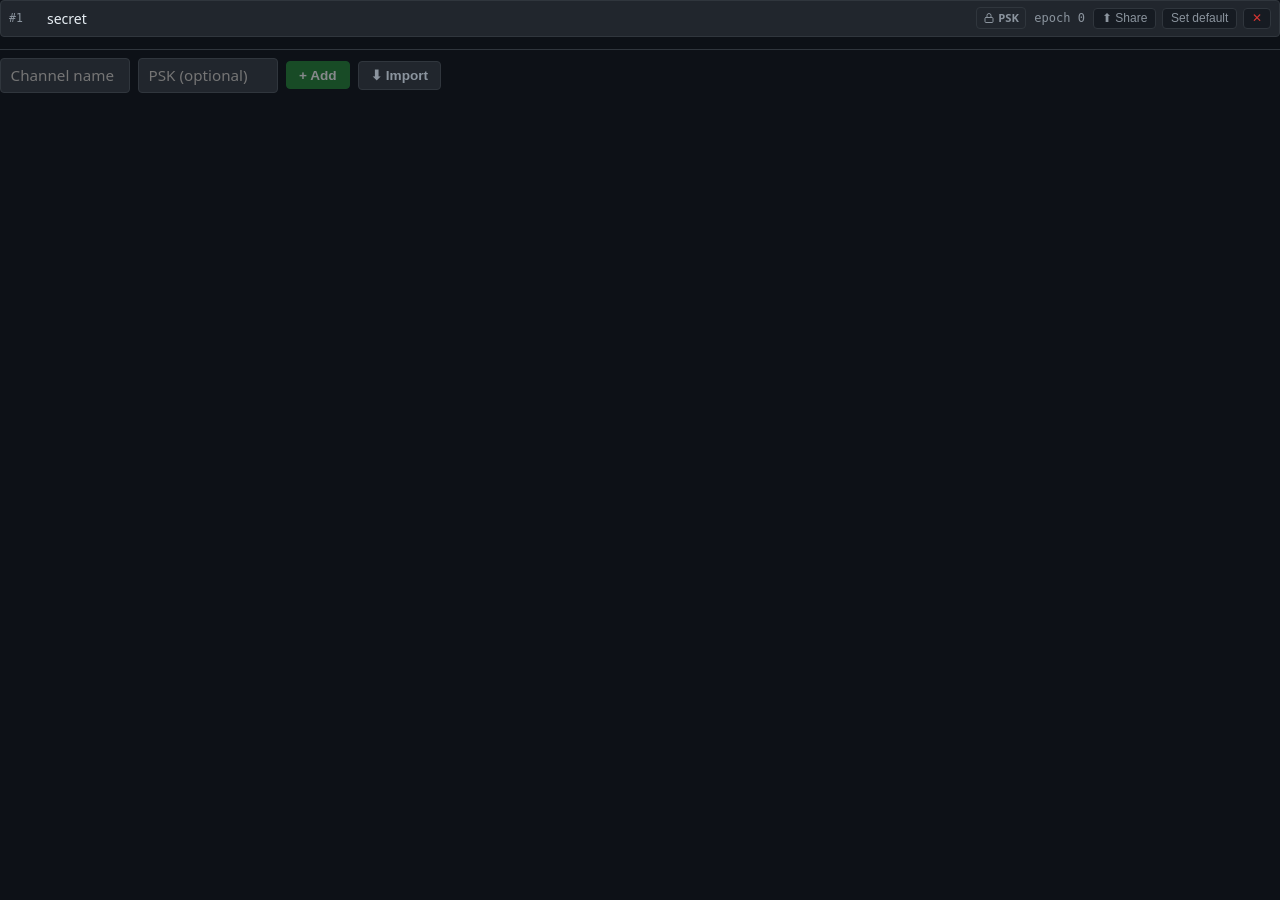
it: ChannelManager PSK prompt dialog › exposes dialog role/aria-modal and closes on Escape
Click the button titled "Share channel \"secret\" as QR code". click: (1125, 18)
box: 1093,8 -> 1156,29
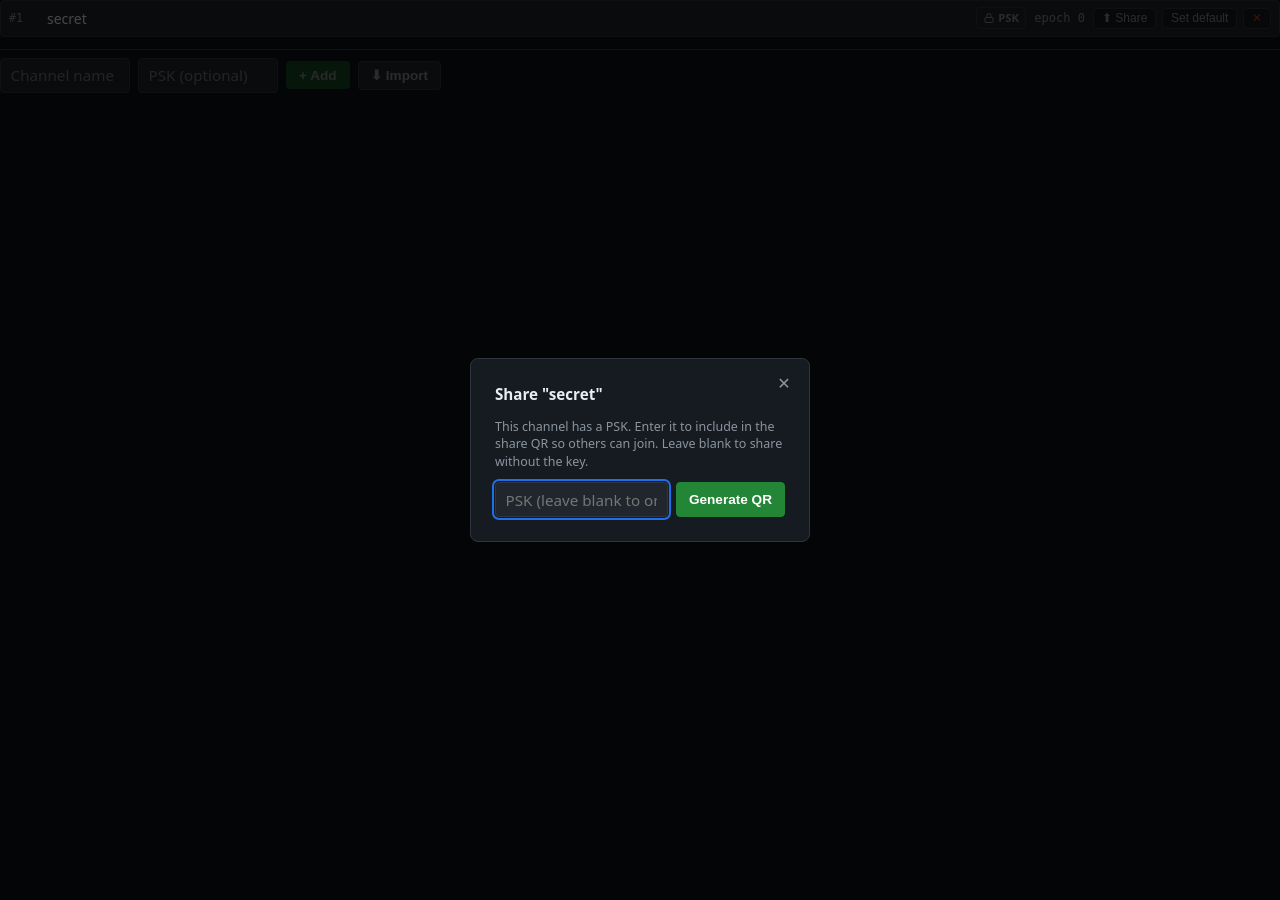
Press Escape in the dialog "Share \"secret\""
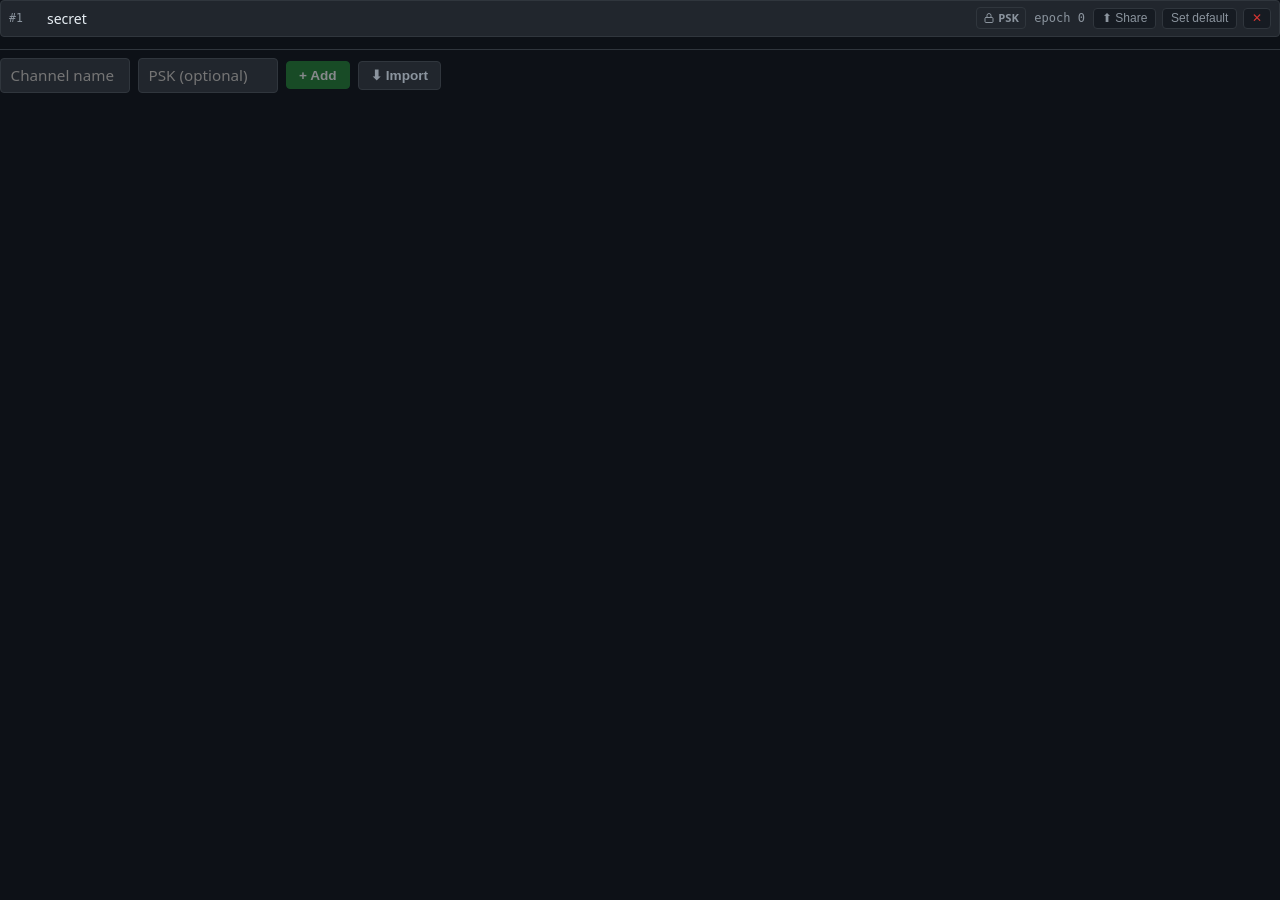
Now the heading "Share \"secret\"" is gone
